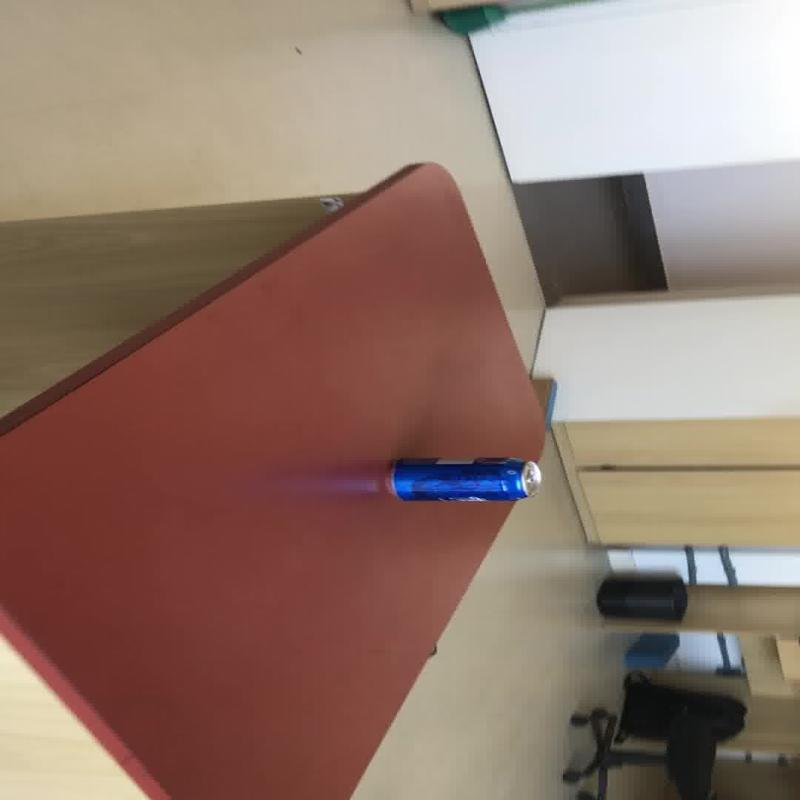tonic: (274, 455, 542, 503), (385, 455, 542, 502)
